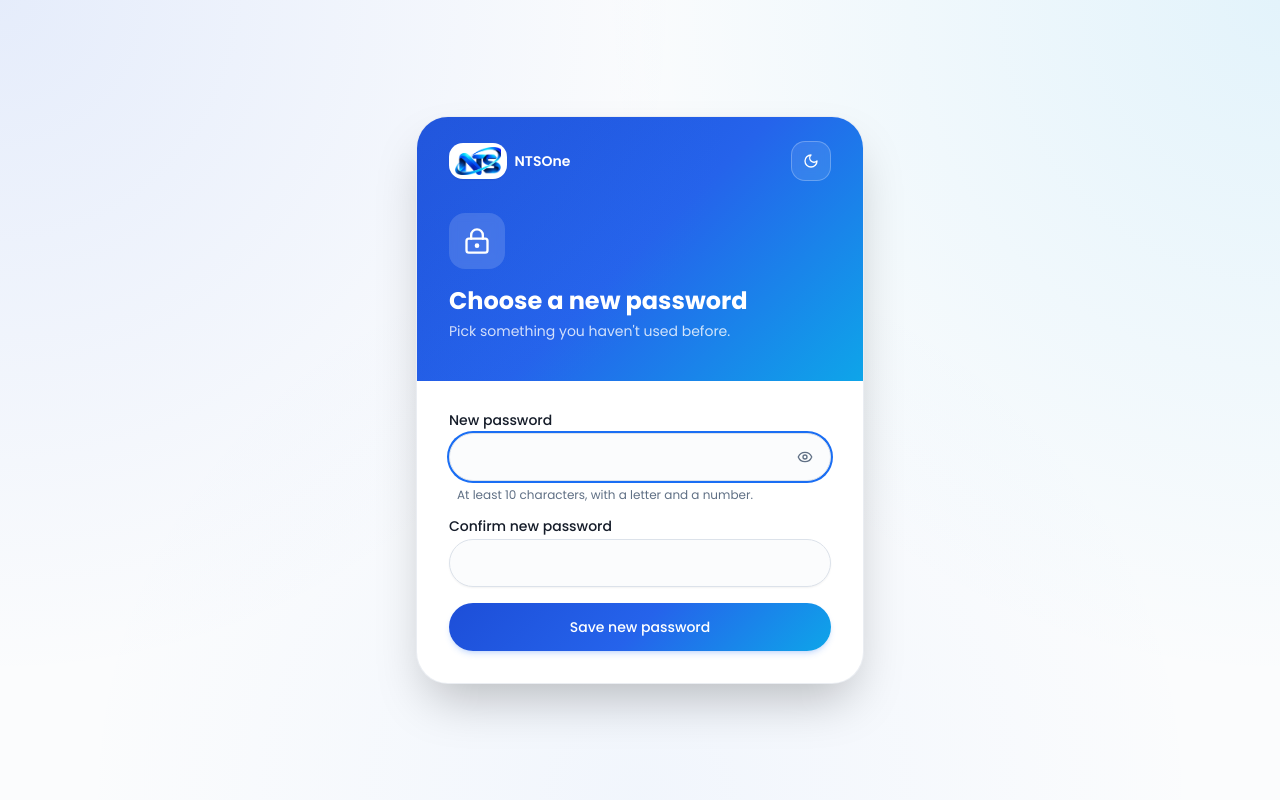
Test: the reset password form › explains a too-short password before sending anything, using the same 10-character rule as the server
Type "Short1" into the password field labelled "New password". click: (640, 457)
box: [449,433,831,481]
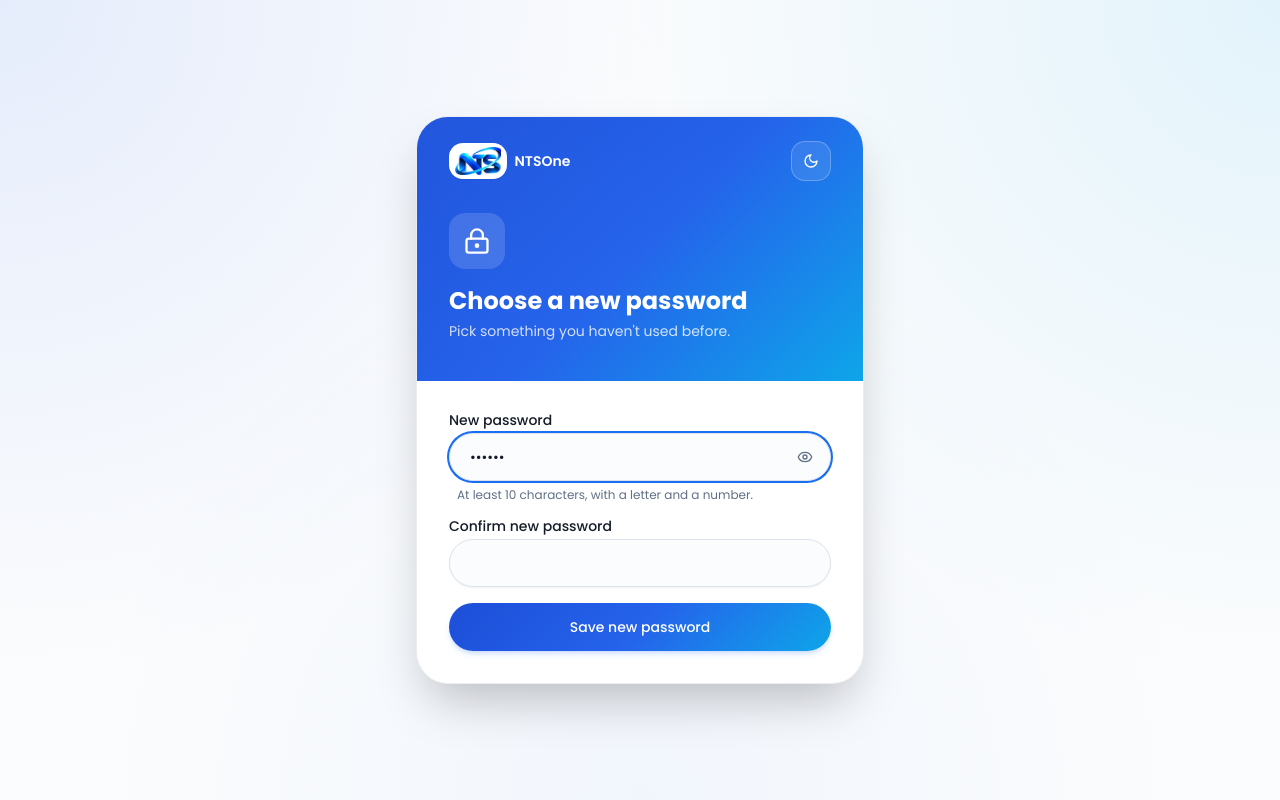
Type "Short1" into the password field labelled "Confirm new password". click: (640, 563)
box: [449,539,831,587]
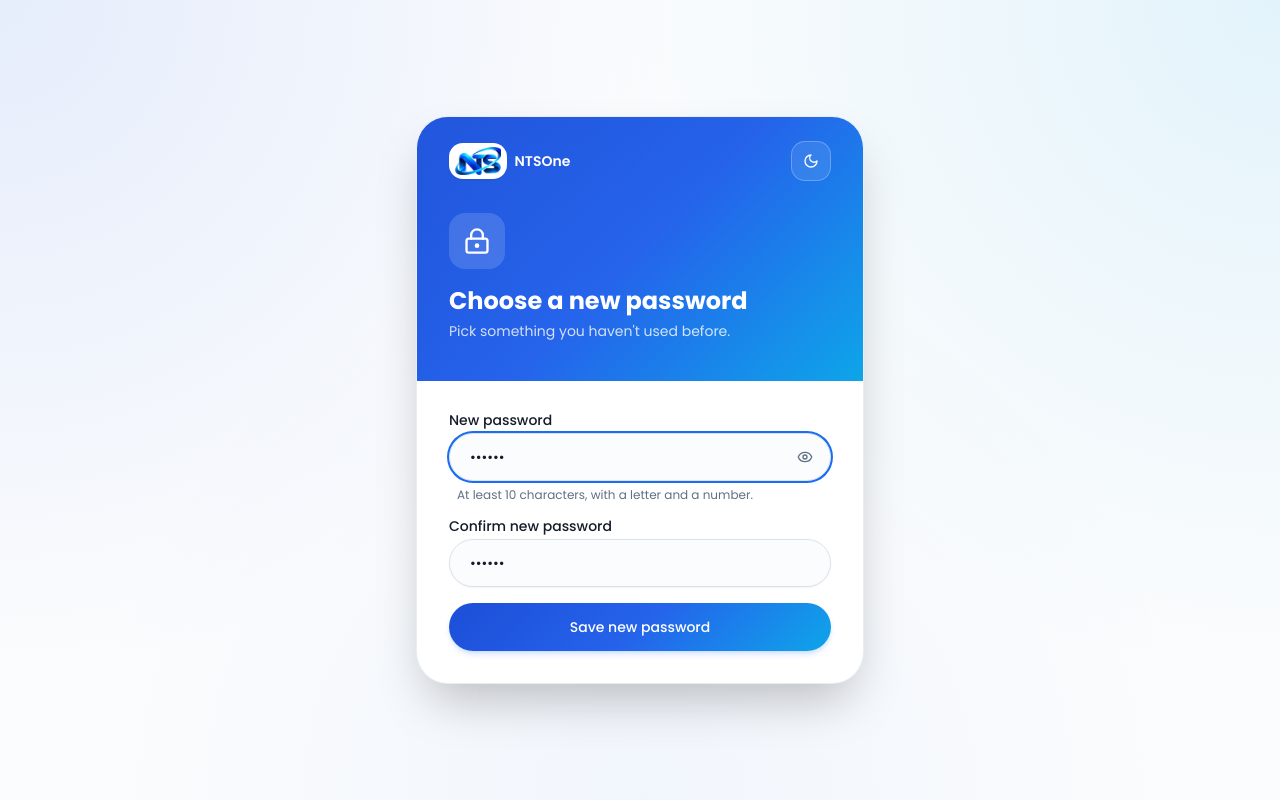
Click the button "Save new password". click: (640, 627)
box: [449,603,831,651]
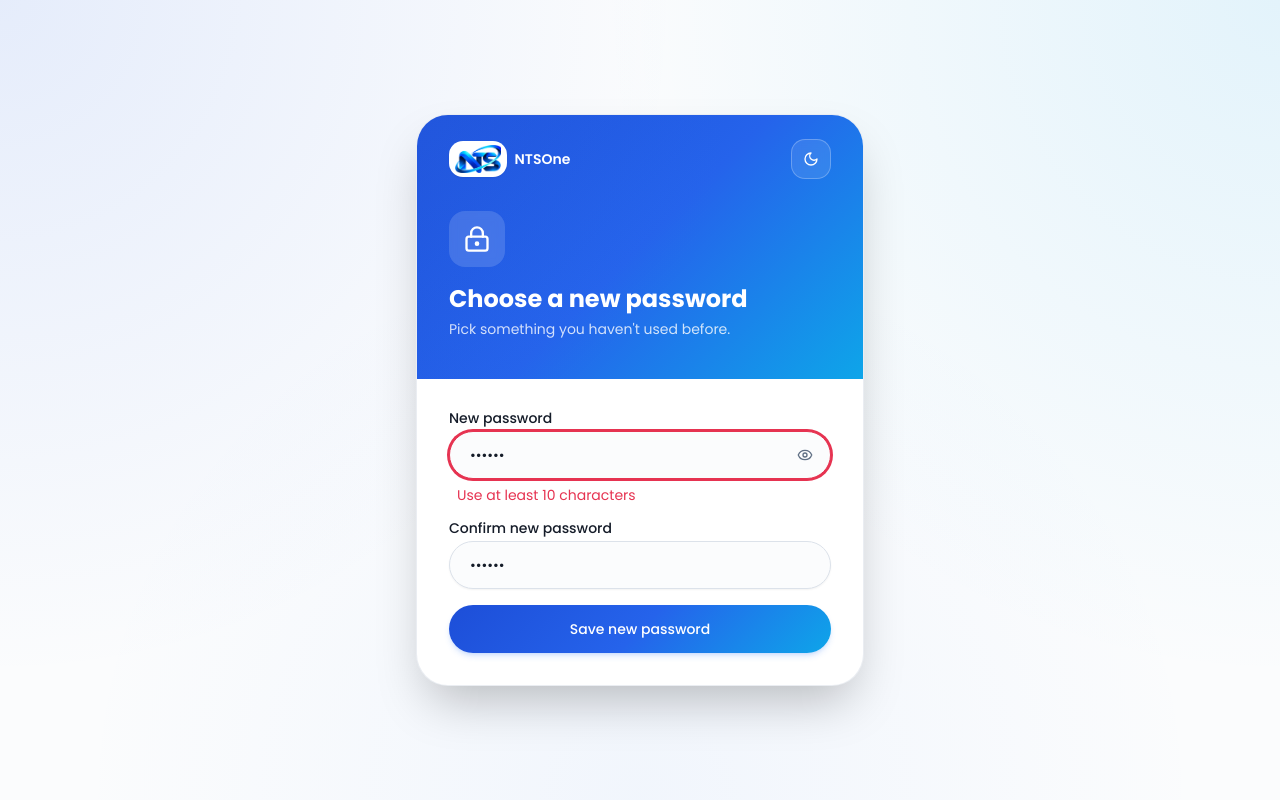
Check: the message reads "Use at least 10 characters", box [457,485,636,505]
